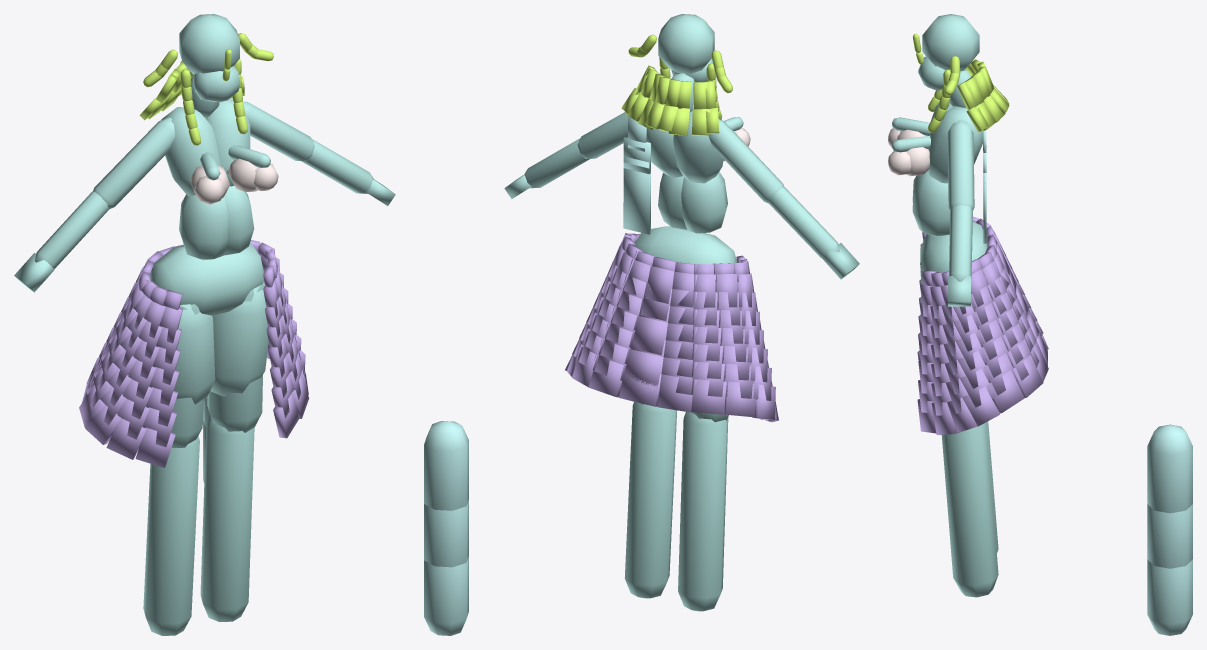
Rendered from Vill_V_RigidBodyWorld.fbx.
3 views of the same model, side by side, from view 1: azimuth 30°, elevation 25°; view 2: azimuth 150°, elevation 25°; view 3: azimuth 270°, elevation 25° (orthographic). The views are drawn at different scales.
Visible parts, largest first — view 1: 00G_左ひざ, 00E_右ひざ, 00C_下半身, 059_左足233, 05A_右足233, 00A_頭_1, 003_右腕, 000_上半身, 001_上半身2_1, 00F_左足, 004_右ひじ, 006_左腕 (+18 smaller); view 2: 00E_右ひざ, 00G_左ひざ, 001_Bone_Gatling_Bullet_01, 003_Bone_Gatling_Bullet_03, 00A_頭_1, 00C_下半身, 002_Bone_Gatling_Bullet_02, 003_右腕, 000_上半身, 001_上半身2_1, 004_右ひじ, 01W_Bone_L_Belt_03 (+16 smaller); view 3: 00G_左ひざ, 001_Bone_Gatling_Bullet_01, 003_Bone_Gatling_Bullet_03, 002_Bone_Gatling_Bullet_02, 00A_頭_1, 006_左腕, 00H_M-上半身, 002_上半身2_2, 007_左ひじ, 00C_下半身, 054_qz_7_10, 055_qz_7_11 (+15 smaller).
Part boxes in pixels (left/top/right/bottom): 00G_左ひざ: left=200, top=414, right=254, bottom=621; 00E_右ひざ: left=143, top=436, right=199, bottom=635; 00C_下半身: left=150, top=242, right=263, bottom=315; 059_左足233: left=210, top=281, right=268, bottom=396; 05A_右足233: left=174, top=304, right=215, bottom=404; 00A_頭_1: left=179, top=14, right=239, bottom=74; 003_右腕: left=93, top=117, right=175, bottom=208; 000_上半身: left=179, top=194, right=228, bottom=260; 001_上半身2_1: left=161, top=107, right=220, bottom=195; 00F_左足: left=207, top=284, right=264, bottom=432; 004_右ひじ: left=35, top=191, right=109, bottom=268; 006_左腕: left=243, top=101, right=314, bottom=161; 00E_右ひざ: left=678, top=412, right=728, bottom=611; 00G_左ひざ: left=624, top=401, right=676, bottom=598; 001_Bone_Gatling_Bullet_01: left=424, top=421, right=468, bottom=510; 003_Bone_Gatling_Bullet_03: left=424, top=556, right=468, bottom=635; 00A_頭_1: left=658, top=14, right=714, bottom=73; 00C_下半身: left=634, top=226, right=737, bottom=264; 002_Bone_Gatling_Bullet_02: left=424, top=499, right=468, bottom=567; 003_右腕: left=708, top=119, right=784, bottom=203; 000_上半身: left=681, top=171, right=727, bottom=233; 001_上半身2_1: left=673, top=110, right=723, bottom=183; 004_右ひじ: left=769, top=187, right=839, bottom=258; 01W_Bone_L_Belt_03: left=623, top=156, right=650, bottom=234; 00G_左ひざ: left=941, top=422, right=998, bottom=597; 001_Bone_Gatling_Bullet_01: left=1147, top=424, right=1192, bottom=513; 003_Bone_Gatling_Bullet_03: left=1147, top=559, right=1192, bottom=635; 002_Bone_Gatling_Bullet_02: left=1147, top=504, right=1192, bottom=568; 00A_頭_1: left=922, top=14, right=979, bottom=71; 006_左腕: left=947, top=120, right=974, bottom=210; 00H_M-上半身: left=912, top=171, right=950, bottom=236; 002_上半身2_2: left=927, top=106, right=982, bottom=183; 007_左ひじ: left=949, top=205, right=972, bottom=281; 00C_下半身: left=920, top=221, right=987, bottom=272; 054_qz_7_10: left=987, top=370, right=1024, bottom=413; 055_qz_7_11: left=962, top=386, right=999, bottom=426.
Size of the model in its own units: 95.75 by 74.98 by 154.
